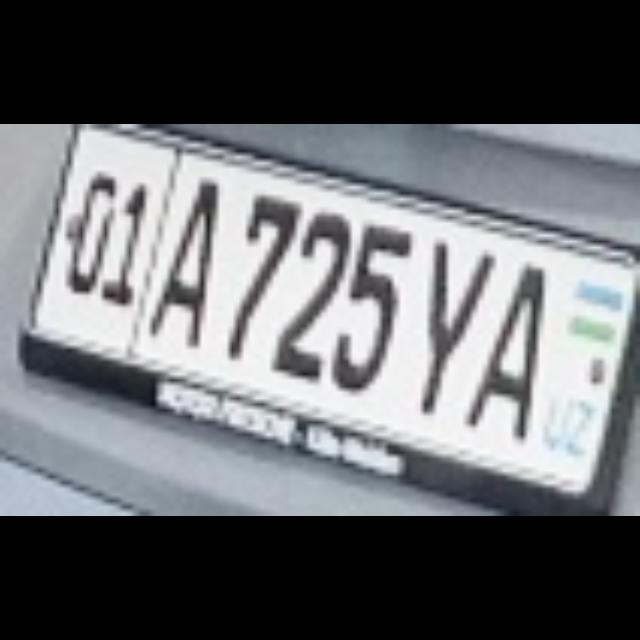0: (61, 166, 109, 294)
1: (103, 172, 139, 300)
2: (272, 208, 338, 372)
5: (338, 220, 404, 384)
7: (224, 190, 278, 354)
A: (465, 263, 537, 432), (151, 178, 211, 342)
Y: (411, 238, 471, 402)
